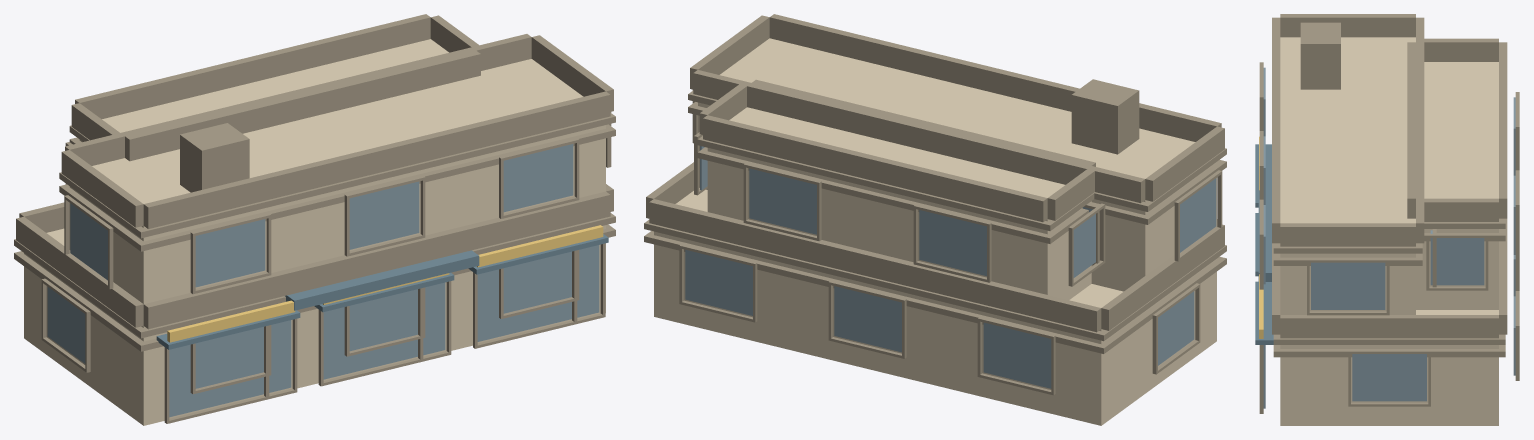
Rendered from commercial_2x1_court.glb.
3 renders of one model, left to right at view 1: azimuth 30°, elevation 25°; view 2: azimuth 150°, elevation 25°; view 3: azimuth 270°, elevation 25°, orthographic. The views are drawn at different scales.
Visible parts, largest first — view 1: commercial_2x1_court_0; view 2: commercial_2x1_court_0; view 3: commercial_2x1_court_0.
Boxes of the visible parts, x1,y1,x2,y2 form: commercial_2x1_court_0: [14, 14, 615, 425]; commercial_2x1_court_0: [644, 14, 1226, 425]; commercial_2x1_court_0: [1255, 14, 1519, 425].
Size of the model in its own units: 15.74 by 7.5 by 7.87.
